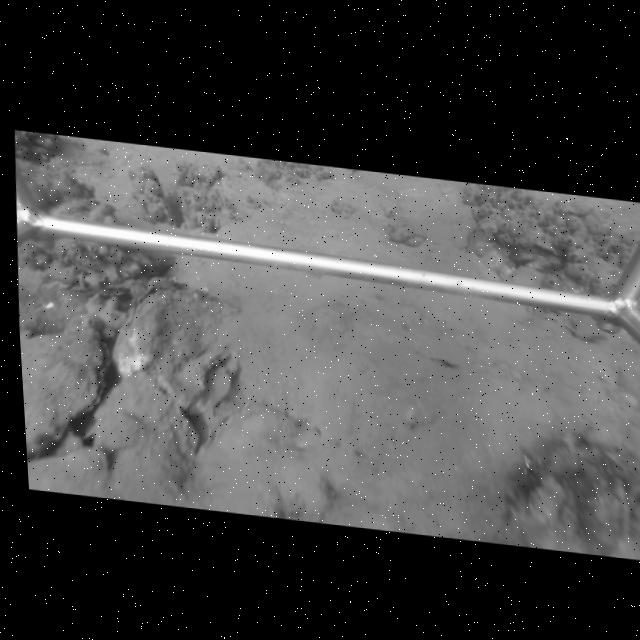Oyster-Closed: (20, 315, 113, 453), (114, 284, 245, 379)
